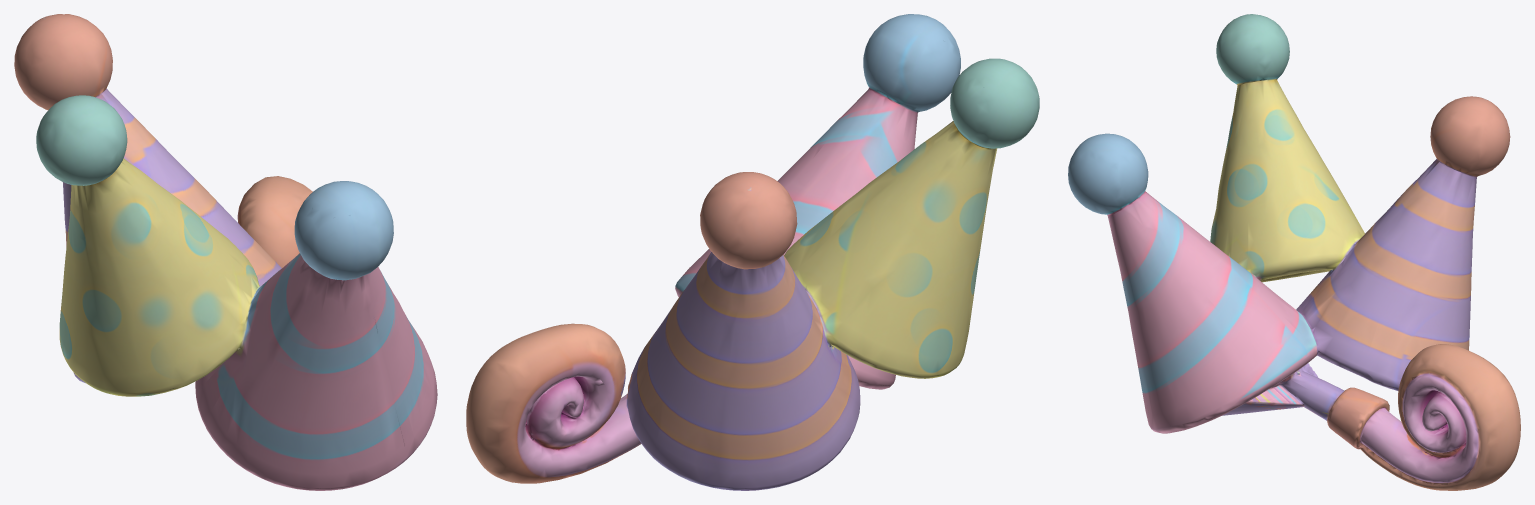
3 views of the same model, side by side, from view 1: azimuth 30°, elevation 25°; view 2: azimuth 150°, elevation 25°; view 3: azimuth 270°, elevation 25° (orthographic). The views are drawn at different scales.
Parts seen in each view (by area): view 1: repaired; view 2: repaired; view 3: repaired.
Boxes of the visible parts, x1,y1,x2,y2 form: repaired: (14,14,437,490); repaired: (466,14,1039,490); repaired: (1068,14,1520,490).
Size of the model in its own units: 0.882 by 0.8217 by 0.9995.
Materials: 1 (1 with a texture image).
